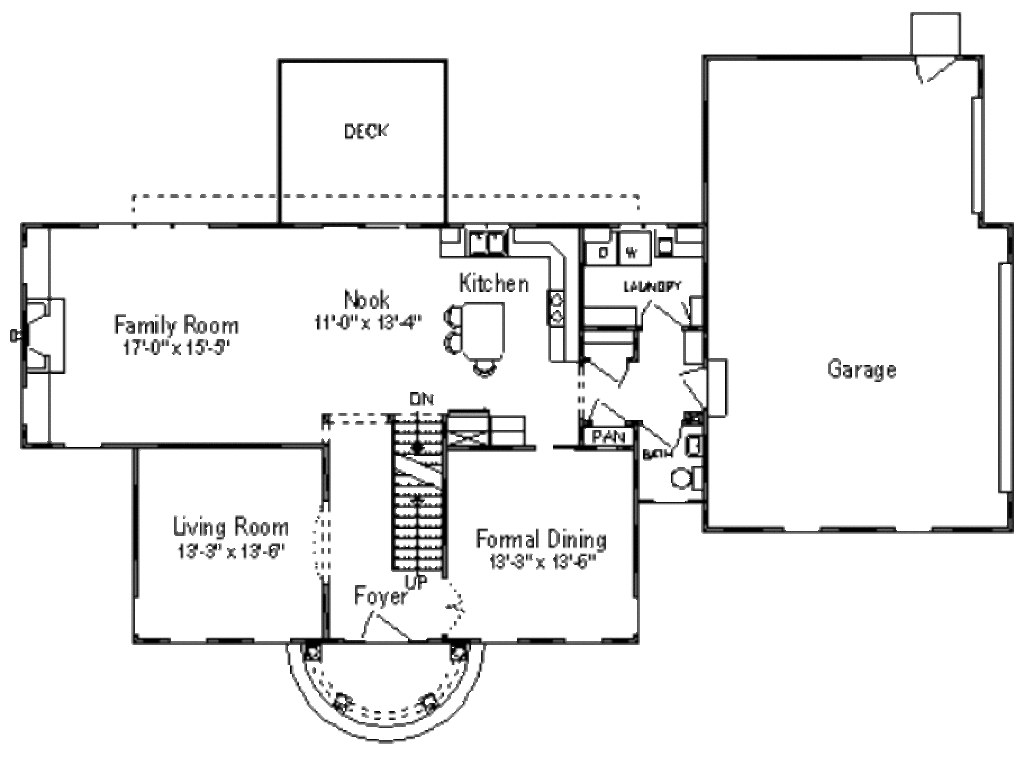door: (910, 51, 959, 88), (356, 612, 409, 642), (581, 354, 631, 385), (645, 415, 685, 449), (581, 397, 624, 425), (637, 303, 679, 329)
kitchen_bar: (442, 297, 512, 383)
large_sink: (668, 463, 705, 493)
stairs: (390, 391, 450, 586)
twin_sink: (459, 224, 516, 256)
windows: (96, 219, 216, 234), (316, 220, 410, 234)
